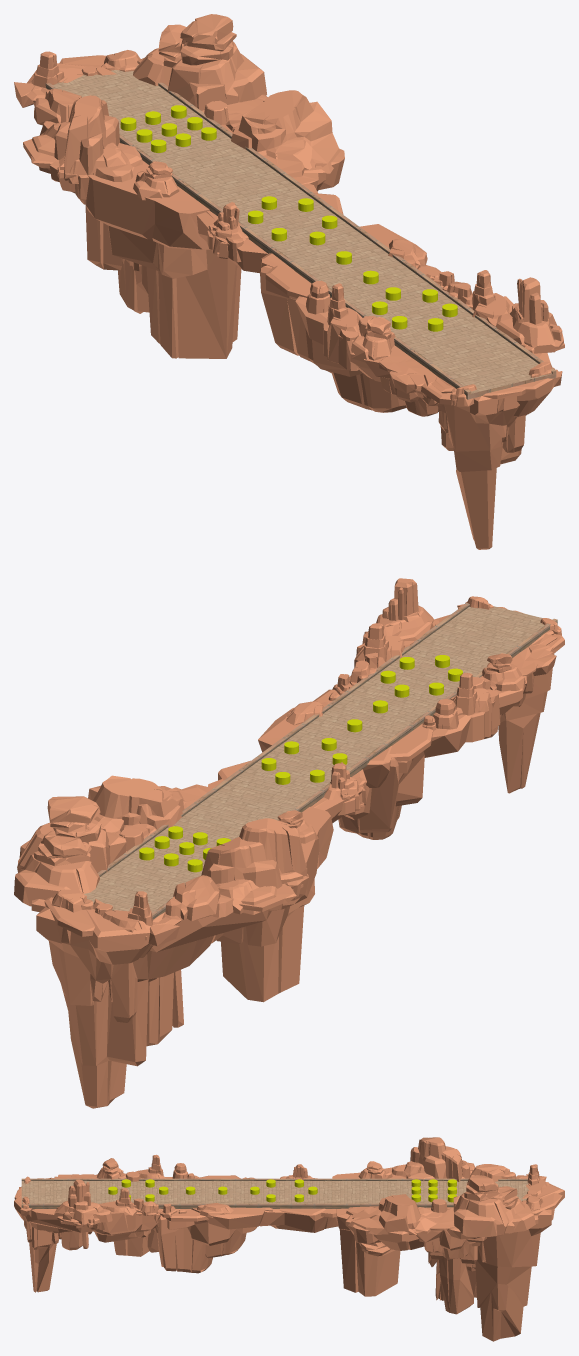
Rendered from road_8_block_A.fbx.
The picture shows the model from 3 angles, top to bottom: view 1: azimuth 30°, elevation 25°; view 2: azimuth 150°, elevation 25°; view 3: azimuth 270°, elevation 25°; orthographic projection. The views are drawn at different scales.
Parts seen in each view (by area): view 1: road_8_block_A_standie, road_8_block_A; view 2: road_8_block_A_standie, road_8_block_A; view 3: road_8_block_A_standie, road_8_block_A.
Boxes of the visible parts, box(x1,y1,x2,y2) form: road_8_block_A_standie: box(14, 14, 564, 549); road_8_block_A: box(45, 65, 556, 399); road_8_block_A_standie: box(14, 578, 564, 1108); road_8_block_A: box(84, 603, 557, 919); road_8_block_A_standie: box(14, 1137, 564, 1341); road_8_block_A: box(21, 1178, 529, 1208).
Size of the model in its own units: 2790 by 2966 by 8609.
